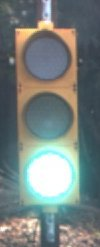Green: (6, 2, 87, 221)
